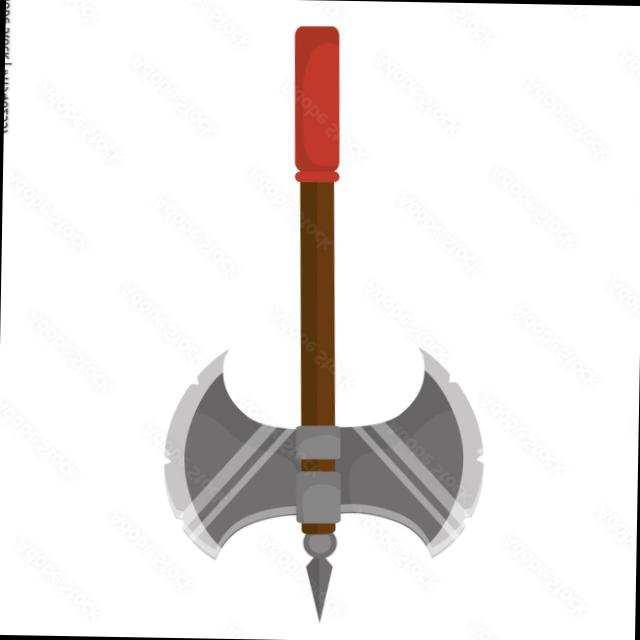Gun: (95, 13, 498, 622)
